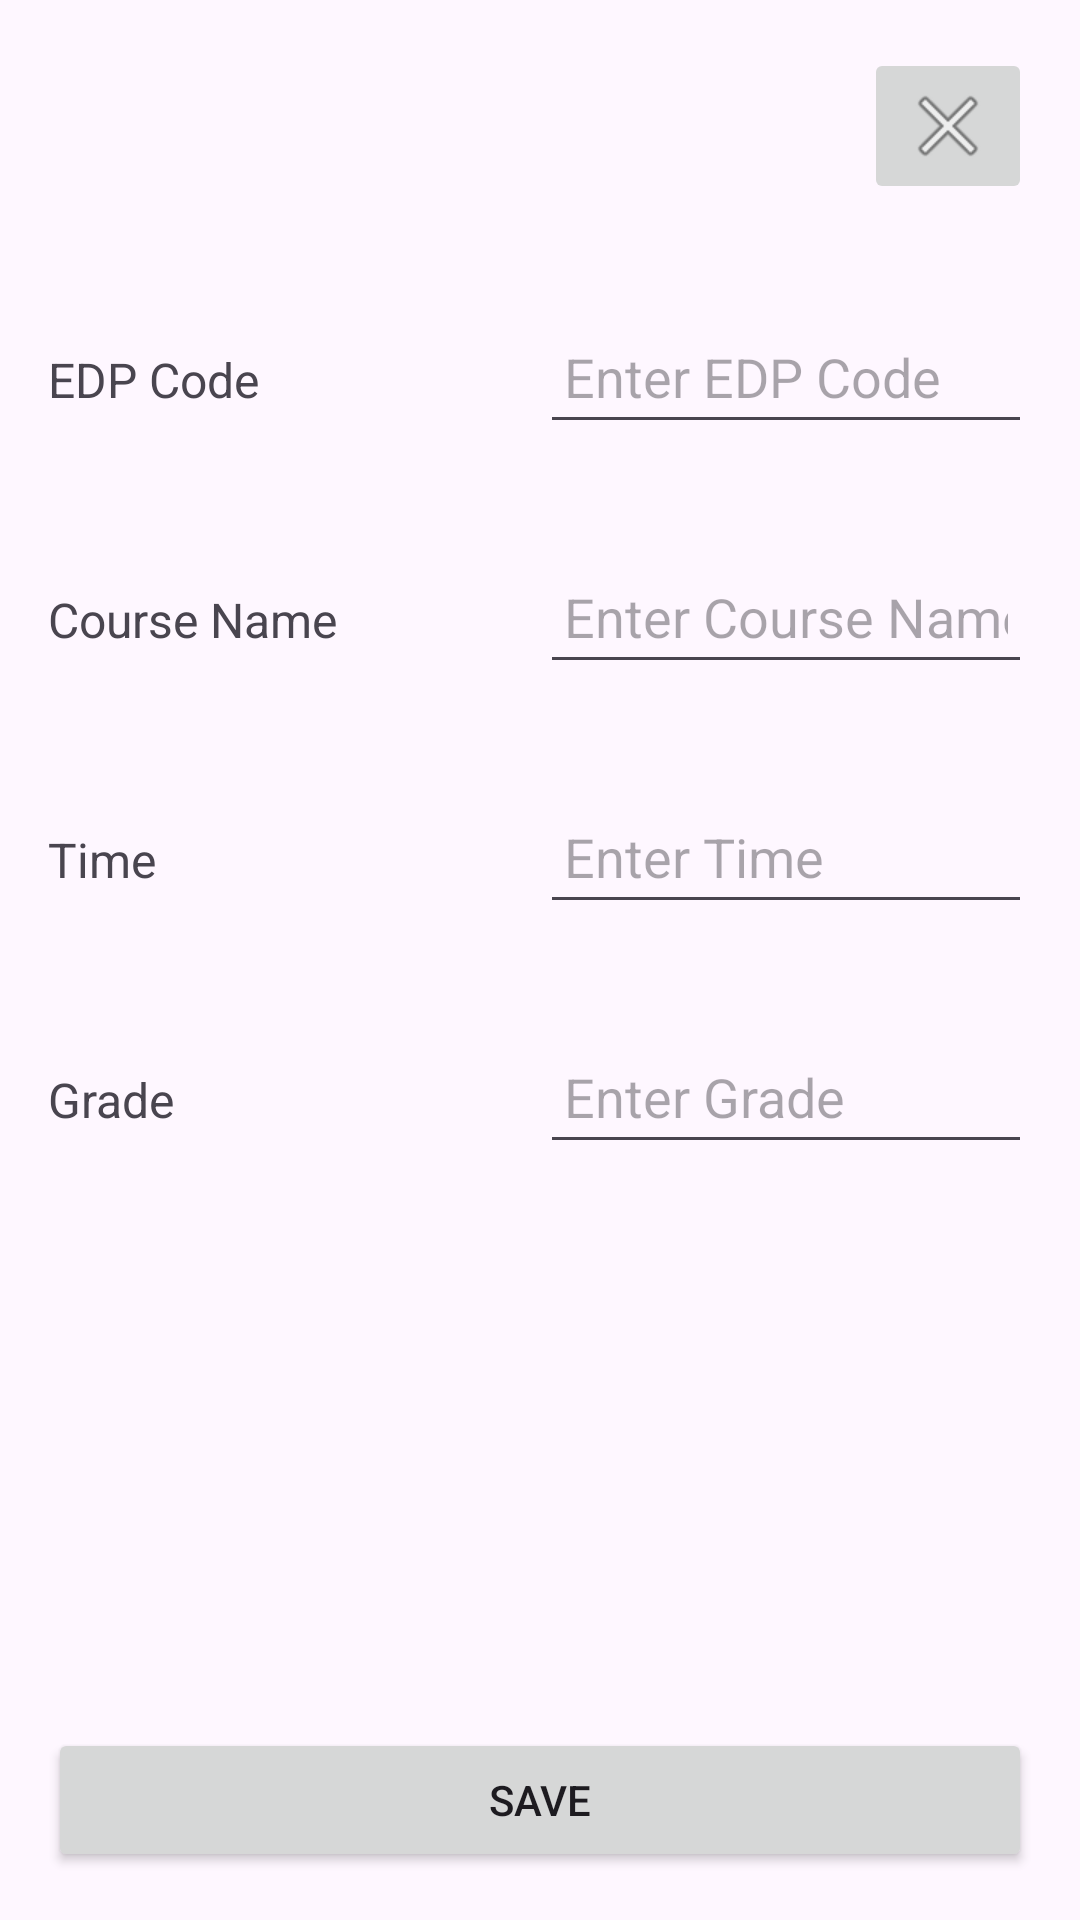

Named icons in this screenshot (1080*1920) and their bounding boxes, (x1,y1,x2,y2):
close clear cancel: (876,66,1020,186)
